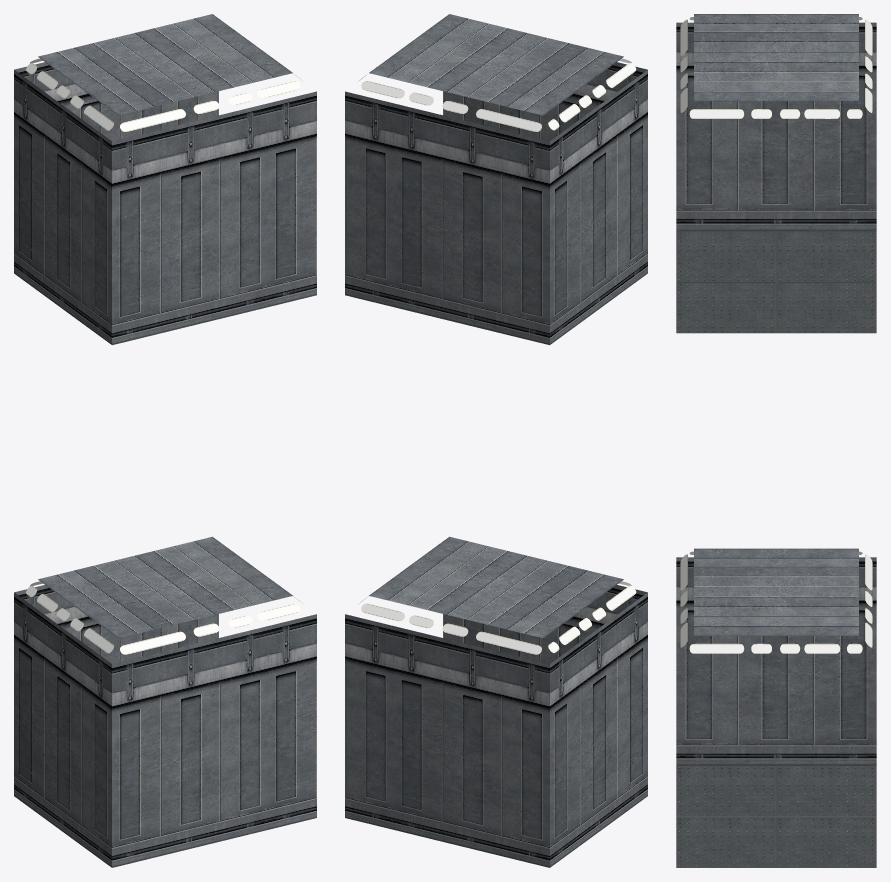
The model's file is thm_nboo_thed_emp_retreat_r14_backelevator_mesh_r14.fbx.
3 views of the same model, side by side, from view 1: azimuth 30°, elevation 25°; view 2: azimuth 150°, elevation 25°; view 3: azimuth 270°, elevation 25° (orthographic). The views are drawn at different scales.
Parts seen in each view (by area): view 1: mesh_node; view 2: mesh_node; view 3: mesh_node.
Part boxes in pixels (box(x1,y1,x2,y2)): mesh_node: box(14, 14, 316, 867); mesh_node: box(345, 14, 647, 867); mesh_node: box(676, 14, 876, 867).
Bounding box in the file's own units: 4.1 × 14.2 × 3.4.
